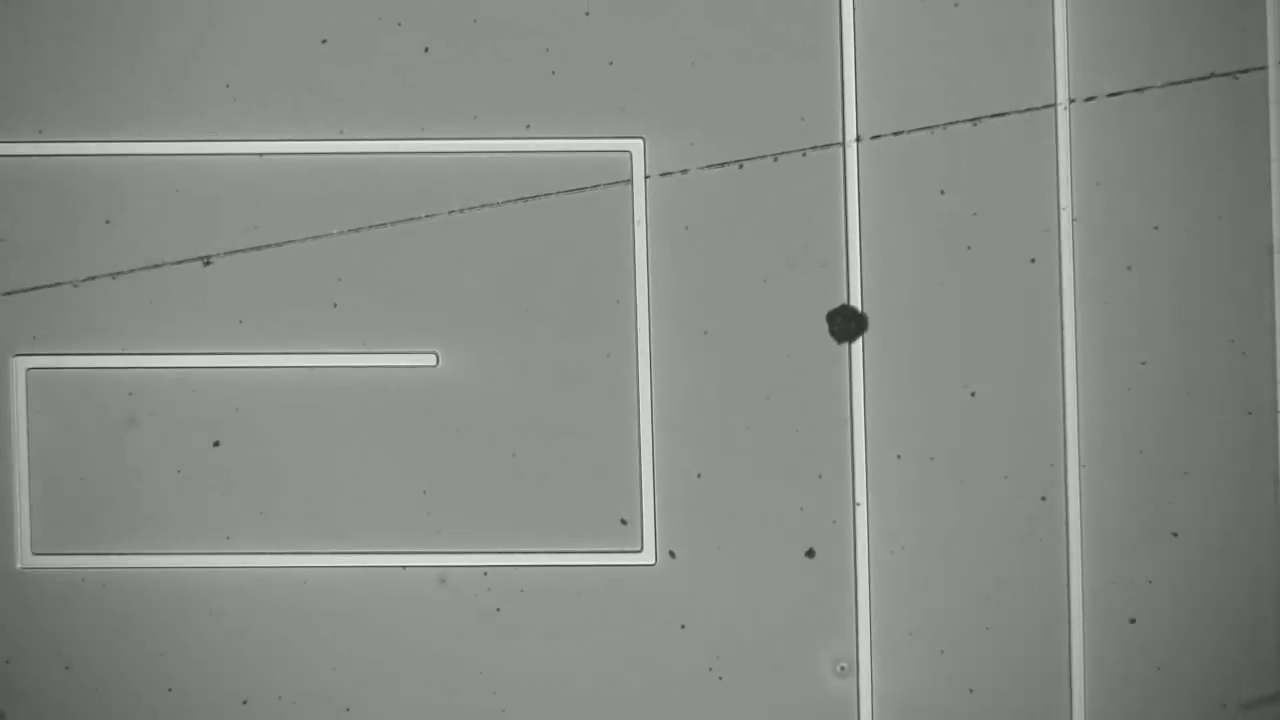scratch: (2, 72, 1258, 299)
stains_enbedded: (814, 297, 892, 360)
